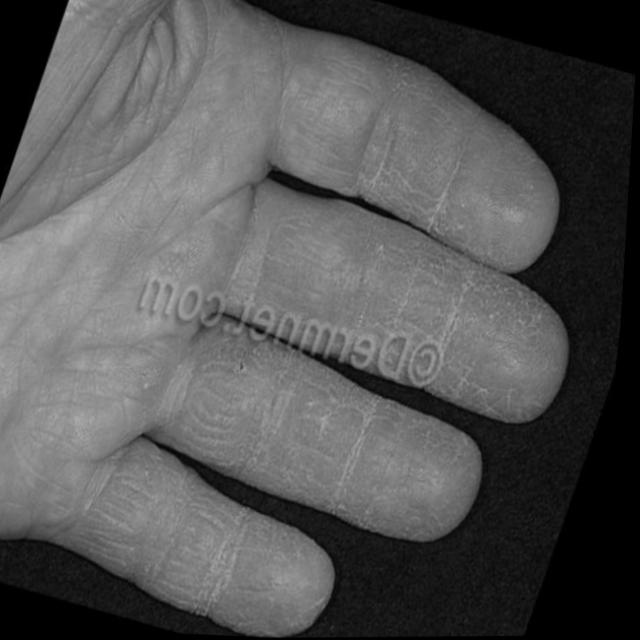Eczema: (45, 142, 564, 635)
